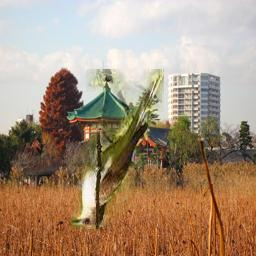Cuckoo: (72, 69, 165, 229)
